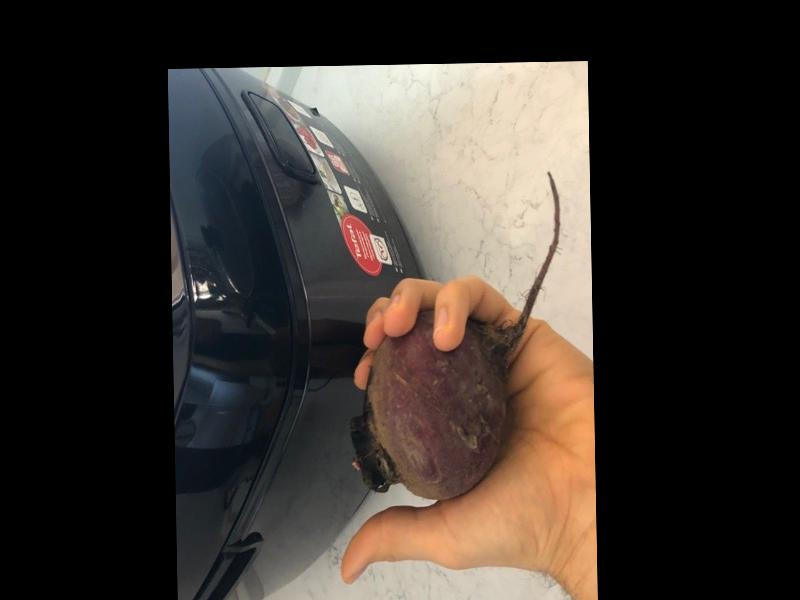Beet: (346, 170, 566, 501)
